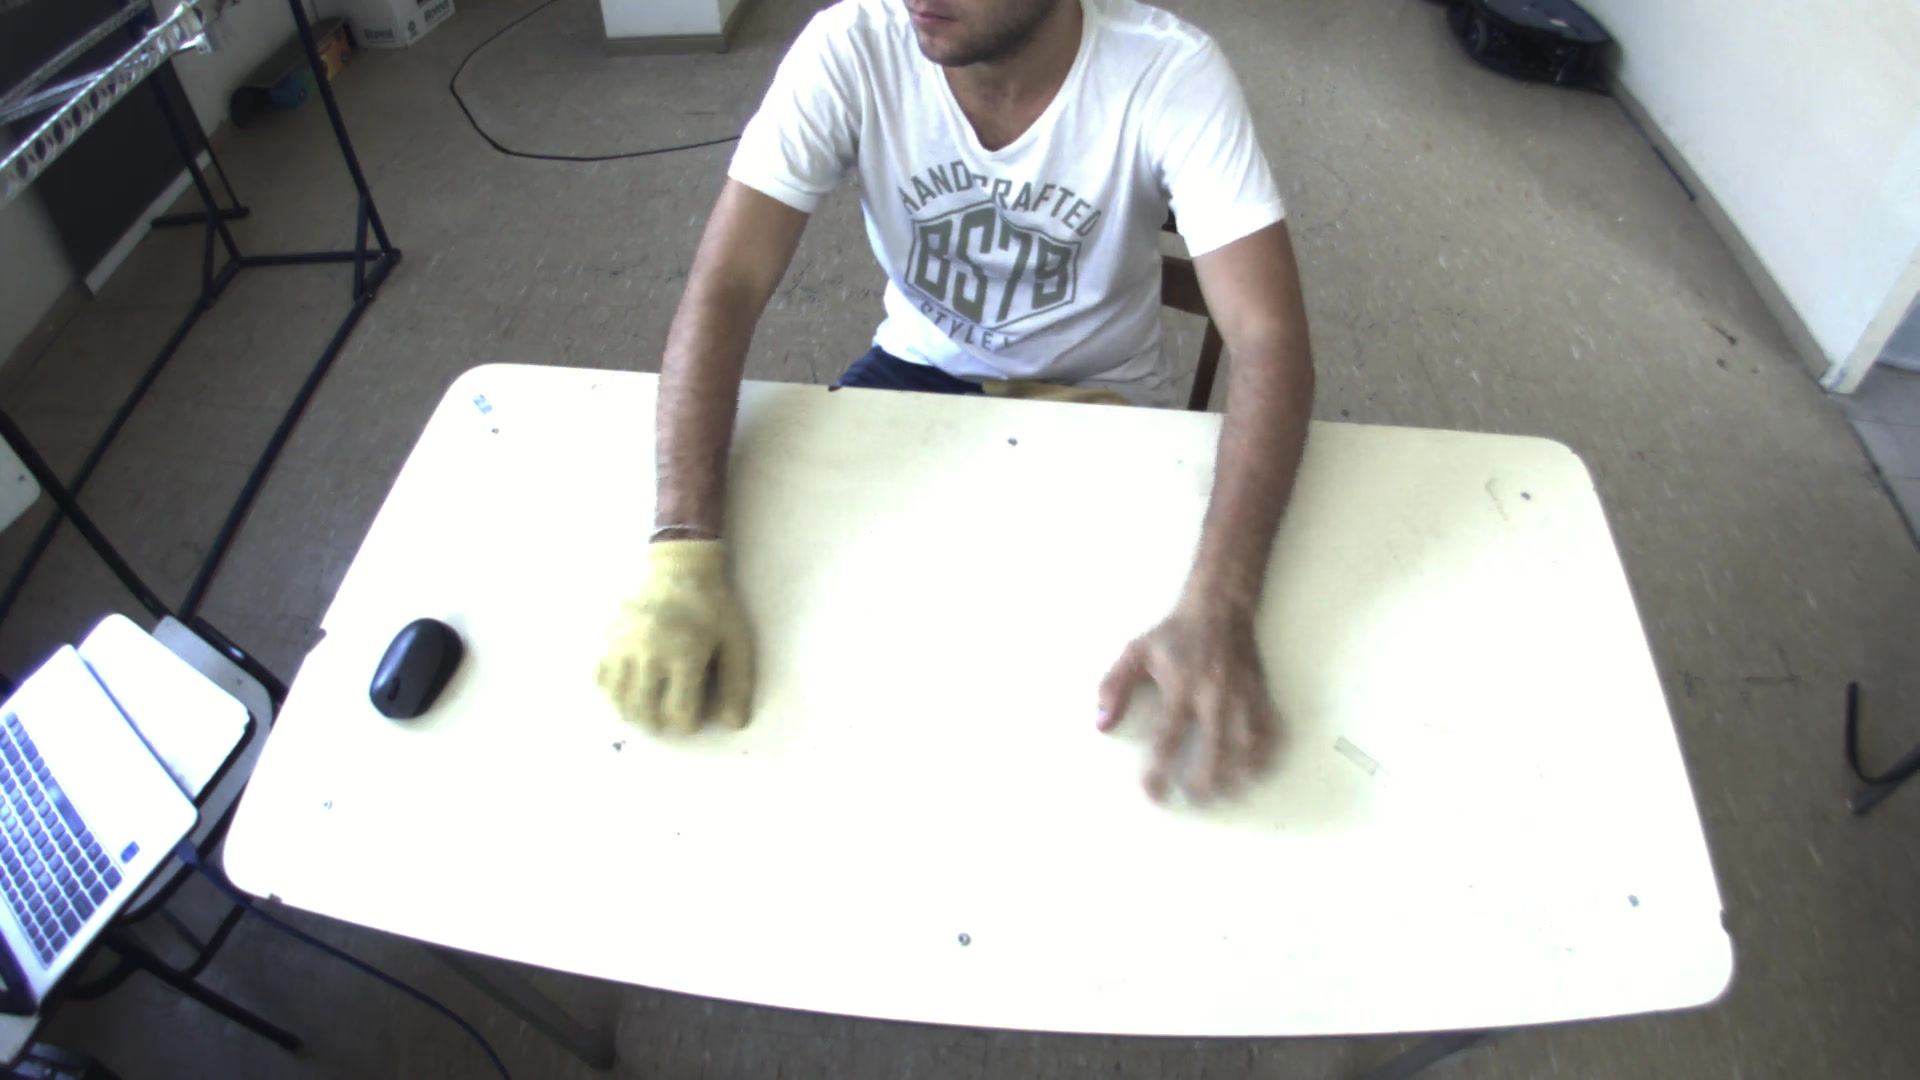hand: (582, 526, 767, 746), (1098, 595, 1288, 808)
